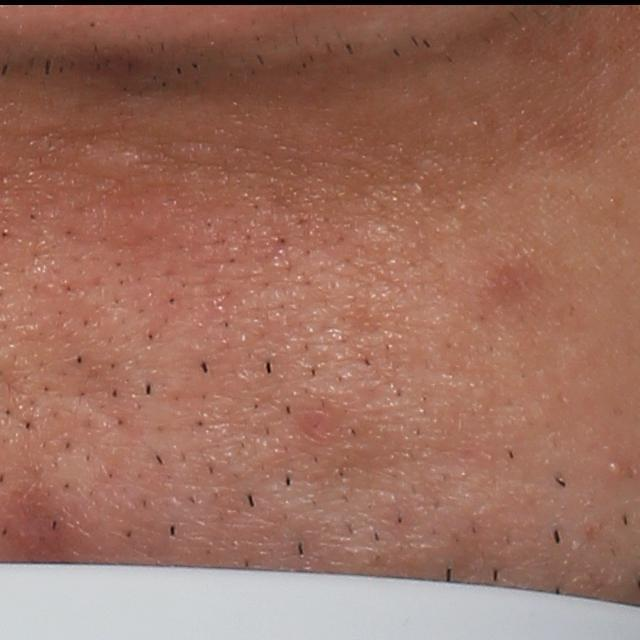hypertrophic_scar: (70, 142, 143, 181)
